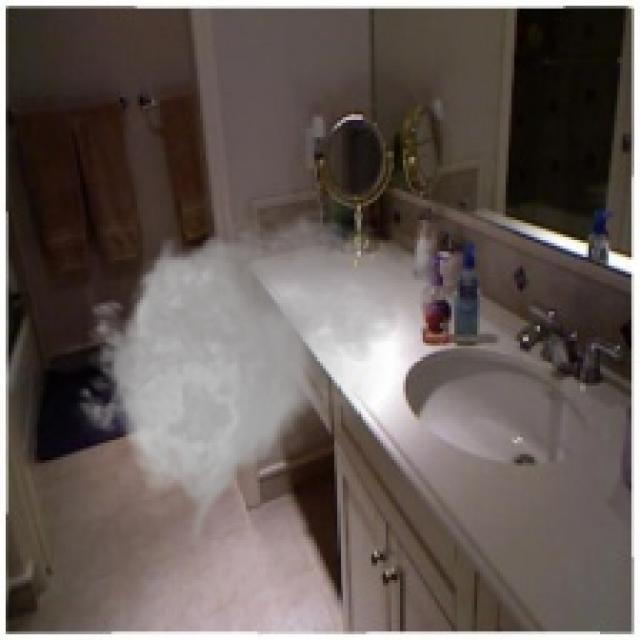Smoke: (66, 199, 448, 552)
